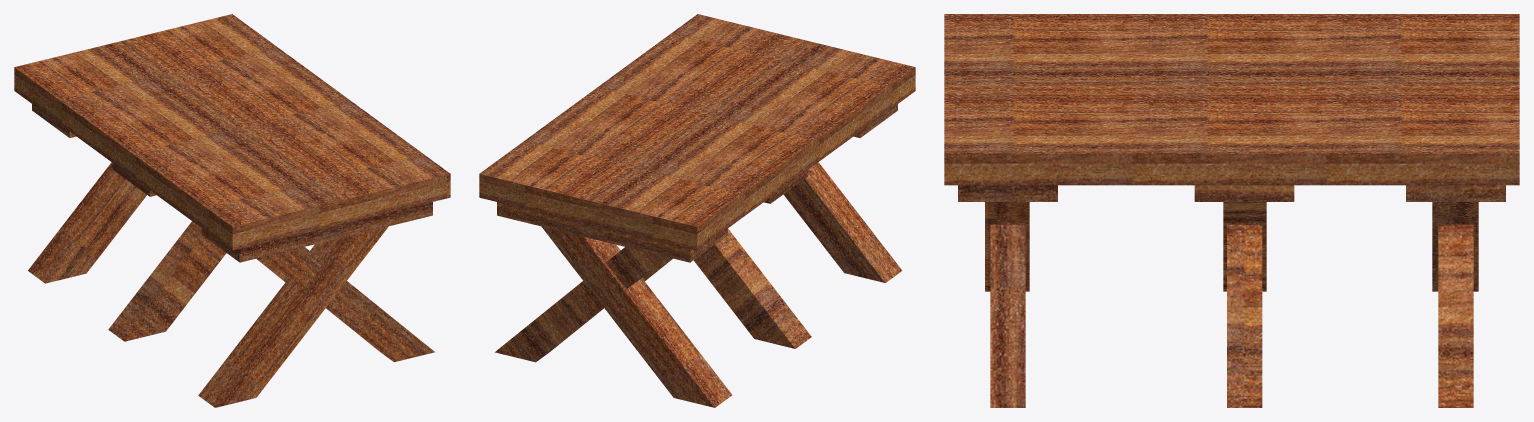
The model's file is Table01.obj.
3 views of the same model, side by side, from view 1: azimuth 30°, elevation 25°; view 2: azimuth 150°, elevation 25°; view 3: azimuth 270°, elevation 25° (orthographic). The views are drawn at different scales.
Parts seen in each view (by area): view 1: Table01_Cube.001; view 2: Table01_Cube.001; view 3: Table01_Cube.001.
Part boxes in pixels (<box>): Table01_Cube.001: <box>14,14,450,407</box>; Table01_Cube.001: <box>479,14,915,407</box>; Table01_Cube.001: <box>944,14,1519,407</box>.
Size of the model in its own units: 2.19 by 1.8 by 3.72.
